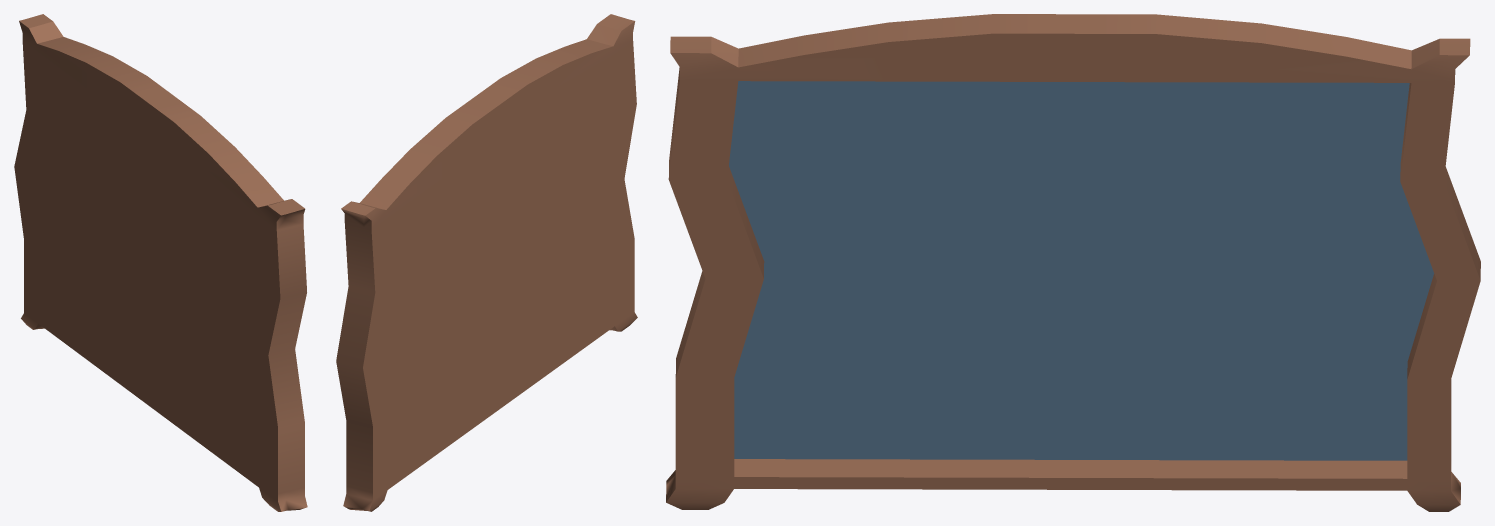
File: picture_frame.fbx
3 views of the same model, side by side, from view 1: azimuth 30°, elevation 25°; view 2: azimuth 150°, elevation 25°; view 3: azimuth 270°, elevation 25° (orthographic). The views are drawn at different scales.
Parts seen in each view (by area): view 1: window5; view 2: window5; view 3: window5.
Part boxes in pixels (x1,y1,x2,y2): window5: [14, 14, 307, 511]; window5: [336, 14, 637, 511]; window5: [666, 14, 1480, 511].
Size of the model in its own units: 21.63 by 222 by 342.
